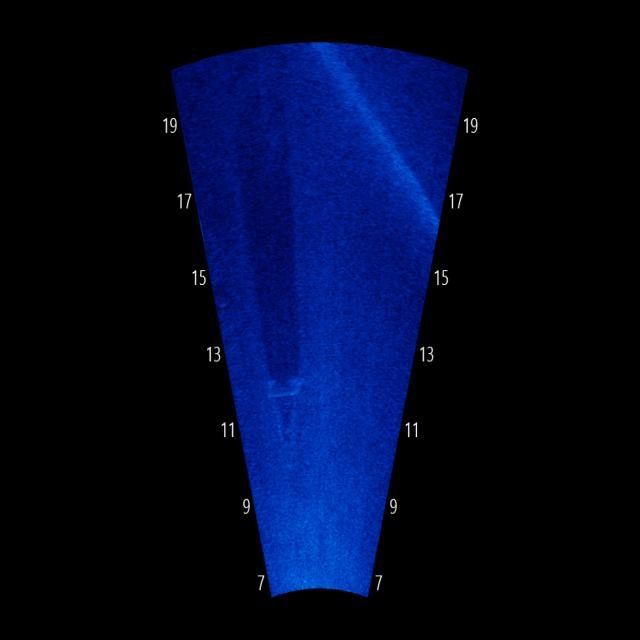triangle: (259, 360, 323, 463)
